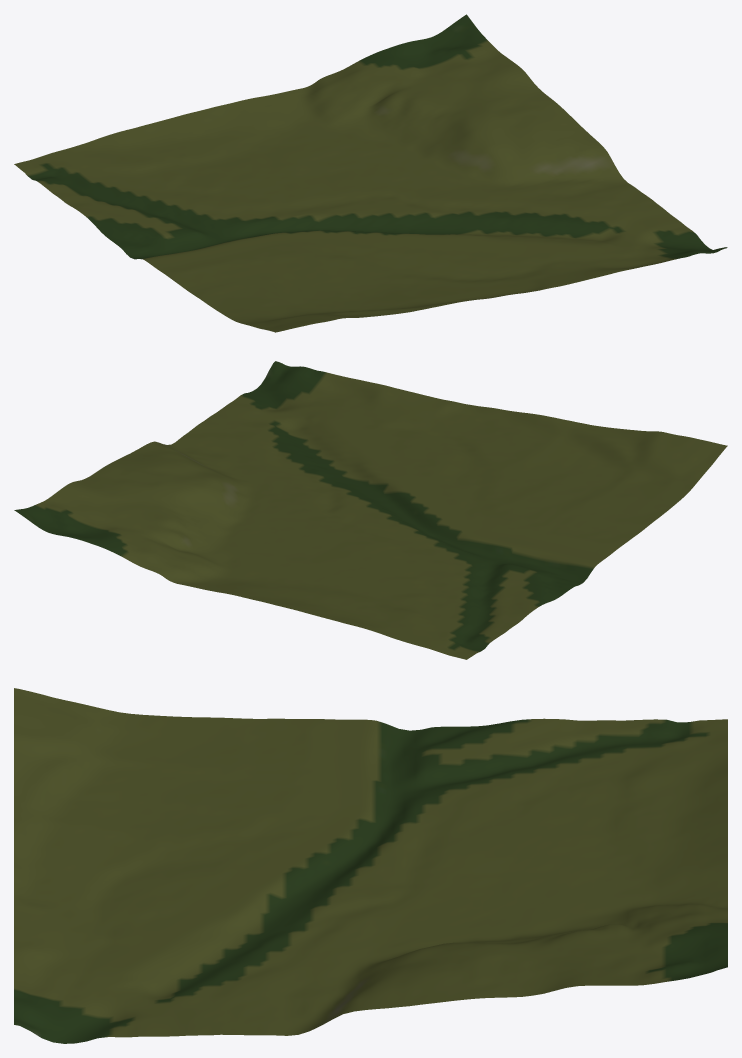
The model's file is terrain_12_-11.glb.
3 views of the same model, one above another, from view 1: azimuth 30°, elevation 25°; view 2: azimuth 150°, elevation 25°; view 3: azimuth 270°, elevation 25° (orthographic). The views are drawn at different scales.
Visible parts, largest first — view 1: terrain_12_-11; view 2: terrain_12_-11; view 3: terrain_12_-11.
Part boxes in pixels (bbox=[...]): terrain_12_-11: bbox=[14, 14, 727, 332]; terrain_12_-11: bbox=[14, 361, 727, 659]; terrain_12_-11: bbox=[14, 688, 727, 1043].
Bounding box in the file's own units: 256 × 30.34 × 256.
